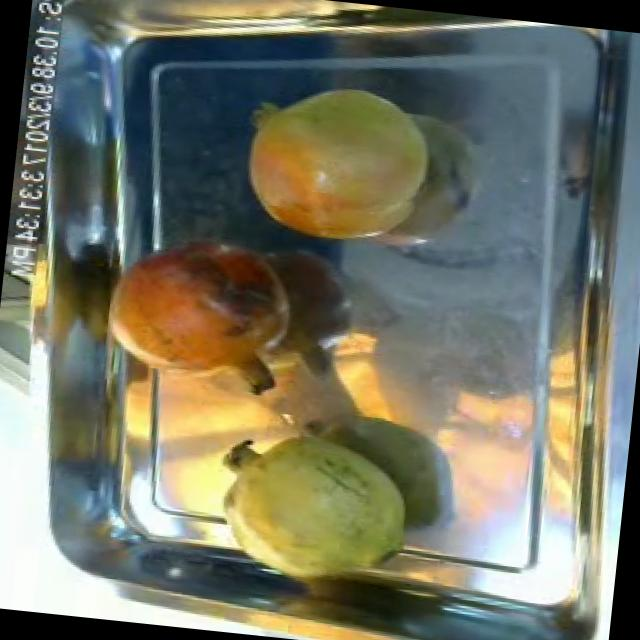fruit: (219, 66, 452, 262), (196, 404, 427, 600), (90, 219, 310, 398)
